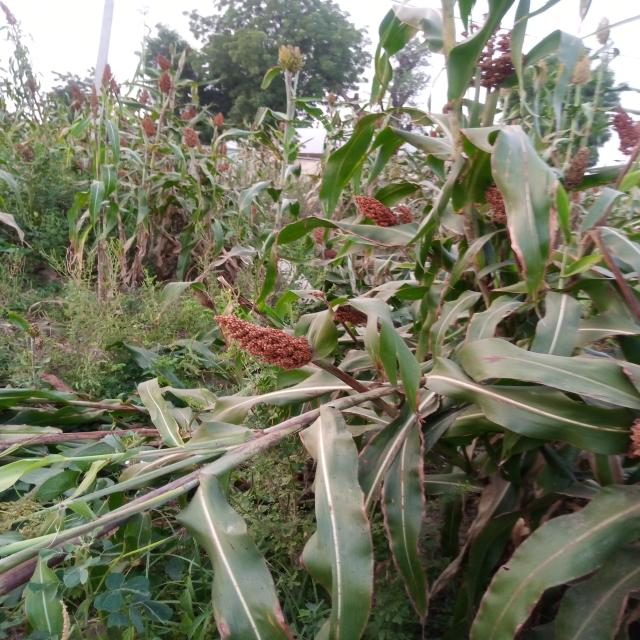RipeSorghum: (187, 292, 354, 389)
